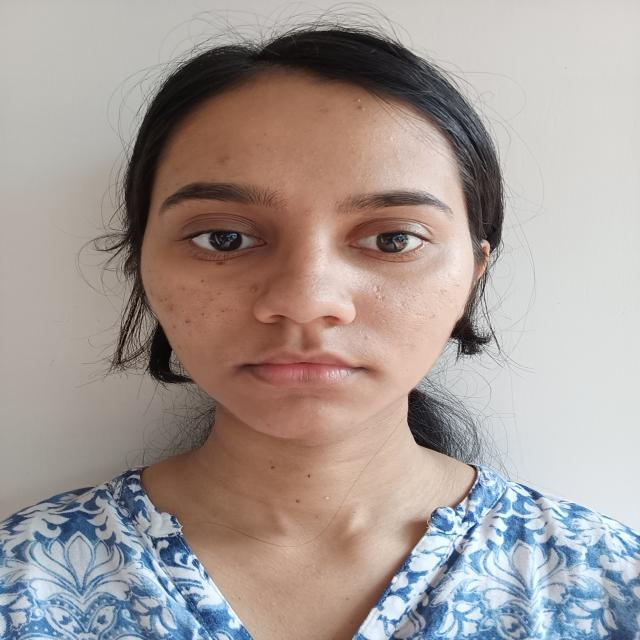Acne: (351, 96, 368, 113), (247, 282, 264, 296), (214, 153, 230, 166), (303, 208, 312, 216)
Englarged-Pores: (165, 286, 241, 332), (371, 282, 422, 328)
